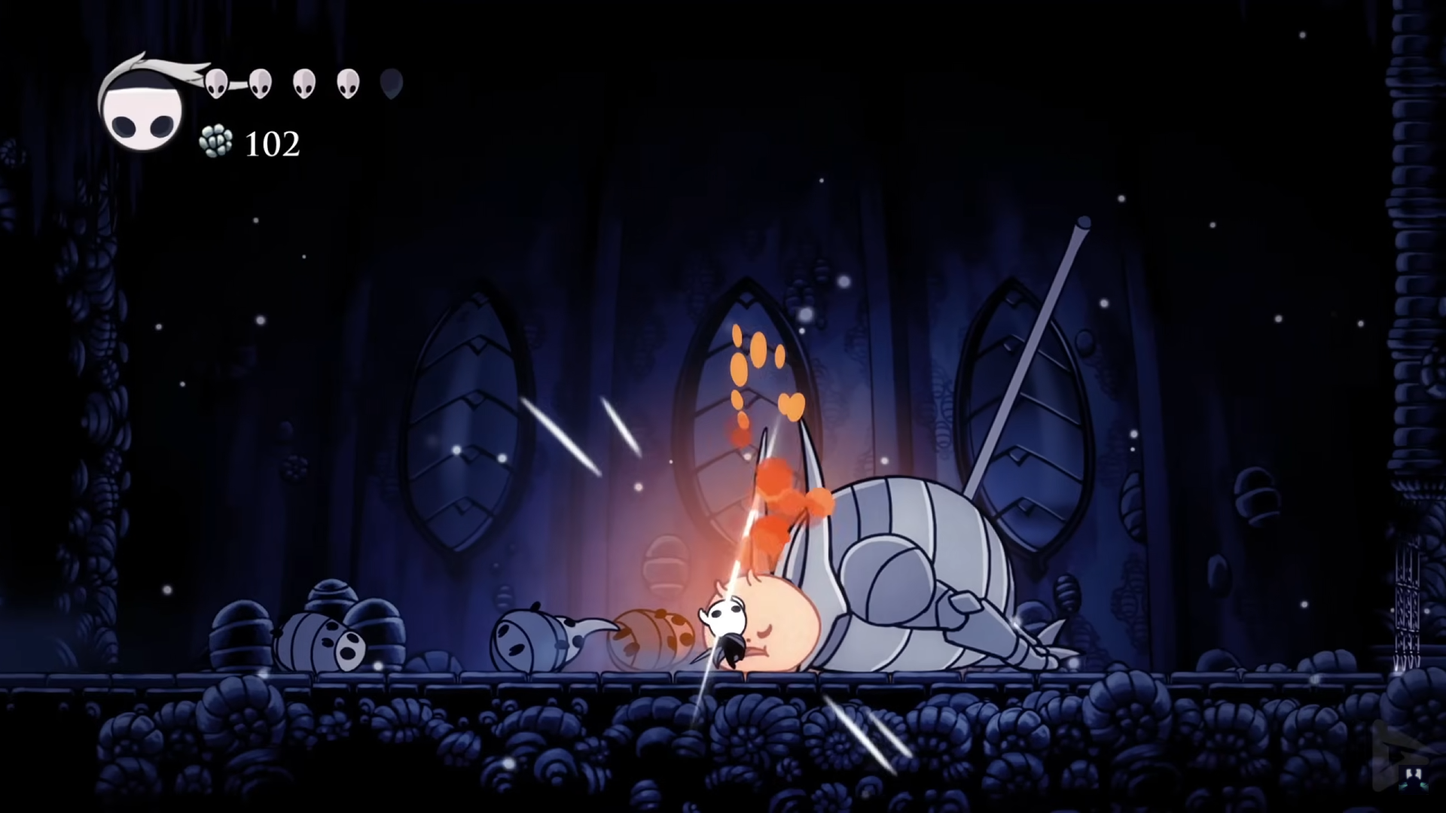HK: (697, 594, 752, 673)
